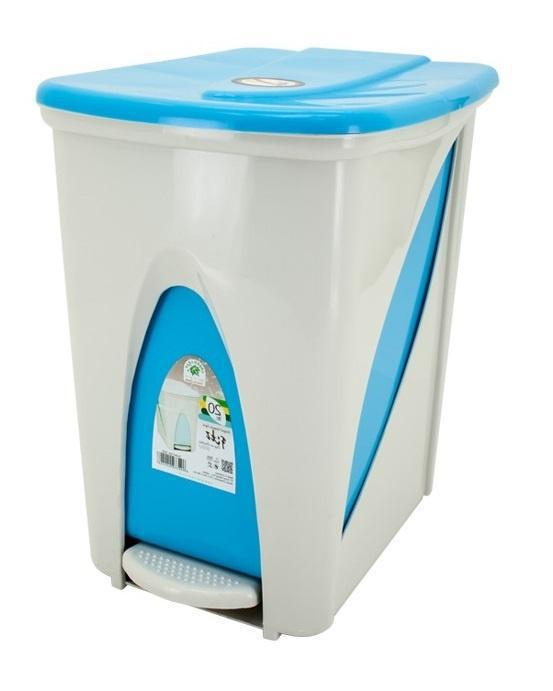Bote de Basura: (47, 57, 441, 623)
